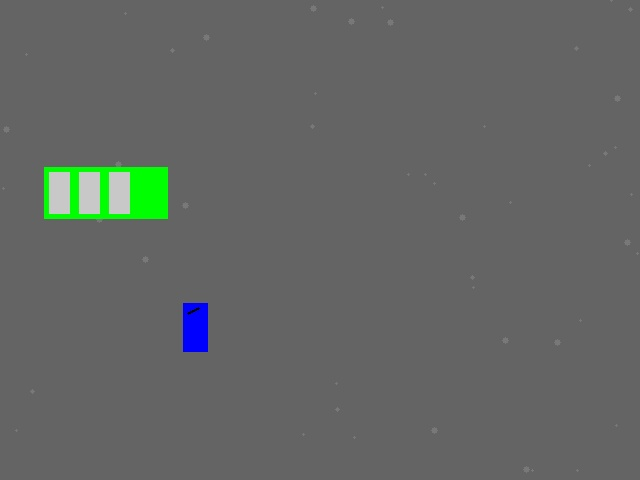bus: (44, 167, 167, 218)
motorcycle: (183, 303, 207, 351)
